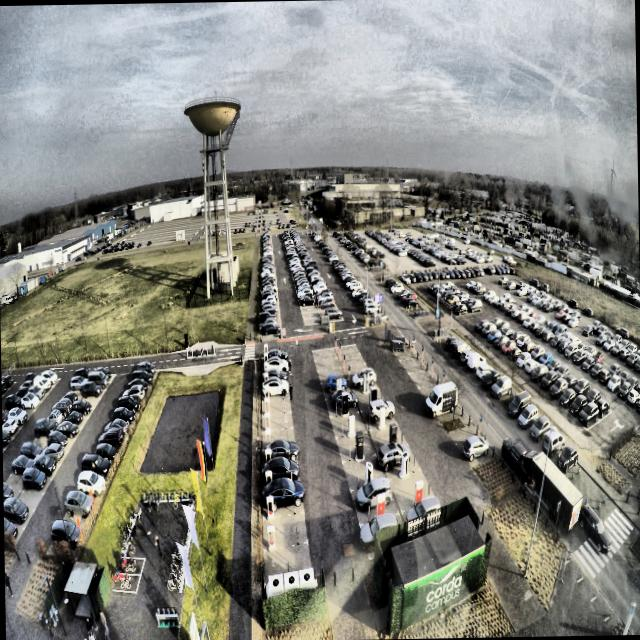cabinet: (268, 567, 314, 590)
car: (262, 478, 305, 510), (263, 457, 300, 483), (264, 438, 300, 463), (261, 376, 289, 398), (262, 355, 289, 372), (260, 368, 288, 381), (266, 348, 289, 363)
parking: (263, 541, 311, 585), (263, 511, 307, 550), (262, 486, 304, 518), (262, 464, 301, 492), (262, 444, 297, 471), (261, 427, 295, 449), (262, 411, 292, 433), (261, 382, 289, 402), (262, 398, 290, 416), (262, 370, 287, 388), (261, 353, 285, 366), (261, 362, 286, 373)
supercharger: (266, 526, 276, 550), (266, 496, 274, 519), (264, 448, 271, 465), (265, 470, 272, 486), (264, 431, 271, 447), (265, 414, 270, 431), (264, 385, 270, 399), (264, 399, 269, 414), (264, 373, 269, 384), (263, 353, 268, 363), (263, 362, 268, 371), (263, 344, 268, 353)
